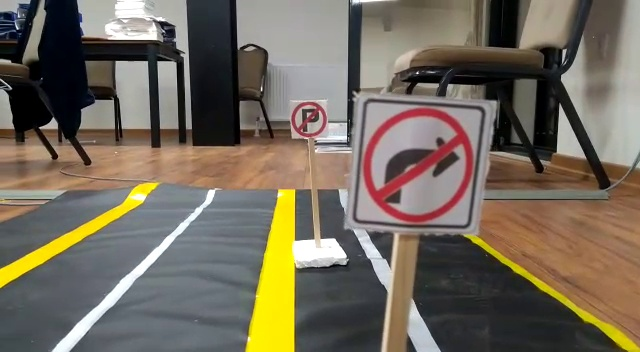park_yapilmaz: (287, 100, 327, 136)
saga_donulmez: (353, 100, 476, 231)
